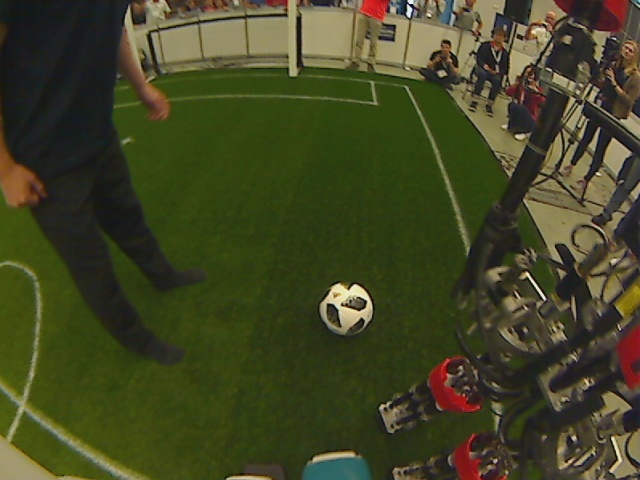ball: (317, 277, 373, 340)
